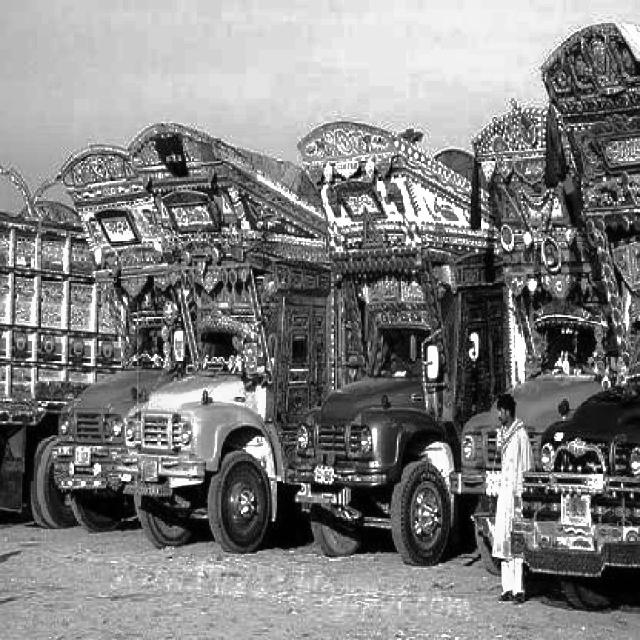HCV: (300, 74, 477, 578), (124, 109, 294, 548), (566, 77, 640, 631), (77, 172, 183, 532), (497, 134, 575, 577), (9, 182, 100, 528)
